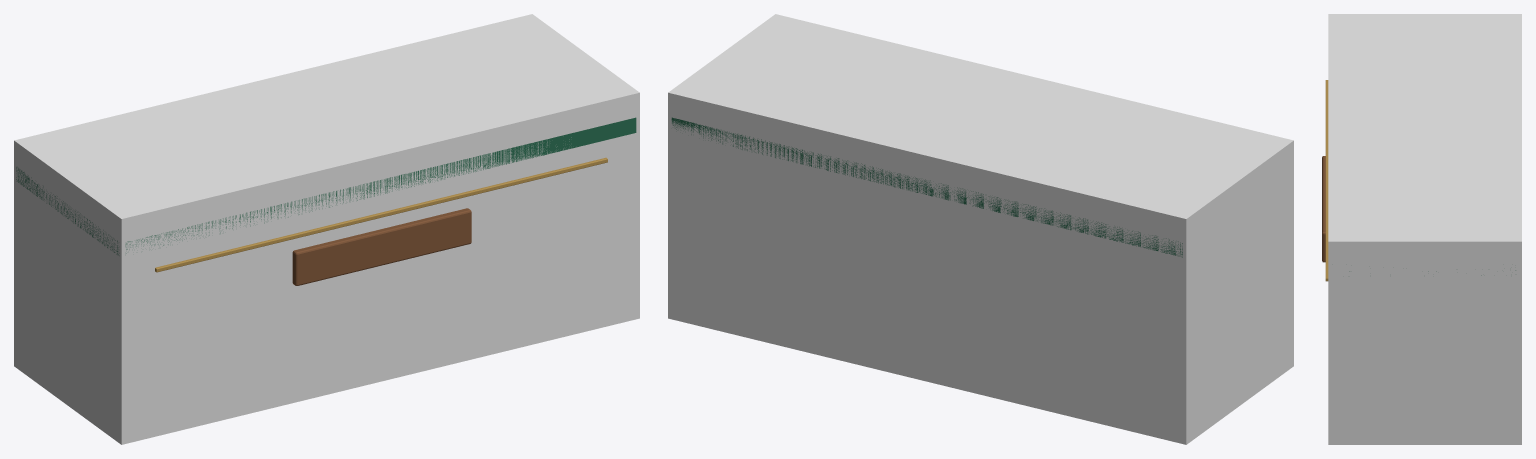
Rendered from checkout-counter_boutique.glb.
3 renders of one model, left to right at view 1: azimuth 30°, elevation 25°; view 2: azimuth 150°, elevation 25°; view 3: azimuth 270°, elevation 25°, orthographic. The views are drawn at different scales.
Visible parts, largest first — view 1: COL_checkout-counter, MESH_ServiceScreen, MESH_Worktop, MESH_TierTrim_01; view 2: COL_checkout-counter, MESH_Worktop; view 3: COL_checkout-counter, MESH_TierTrim_01, MESH_ServiceScreen.
Part boxes in pixels (left/top/right/bottom): COL_checkout-counter: left=14, top=14, right=639, bottom=444; MESH_ServiceScreen: left=292, top=208, right=471, bottom=285; MESH_Worktop: left=16, top=117, right=636, bottom=255; MESH_TierTrim_01: left=155, top=157, right=607, bottom=272; COL_checkout-counter: left=668, top=14, right=1293, bottom=444; MESH_Worktop: left=671, top=117, right=1182, bottom=257; COL_checkout-counter: left=1328, top=14, right=1521, bottom=444; MESH_TierTrim_01: left=1325, top=80, right=1328, bottom=281; MESH_ServiceScreen: left=1322, top=156, right=1325, bottom=262.
Bounding box in the file's own units: 2.45 × 1.02 × 0.9086.
